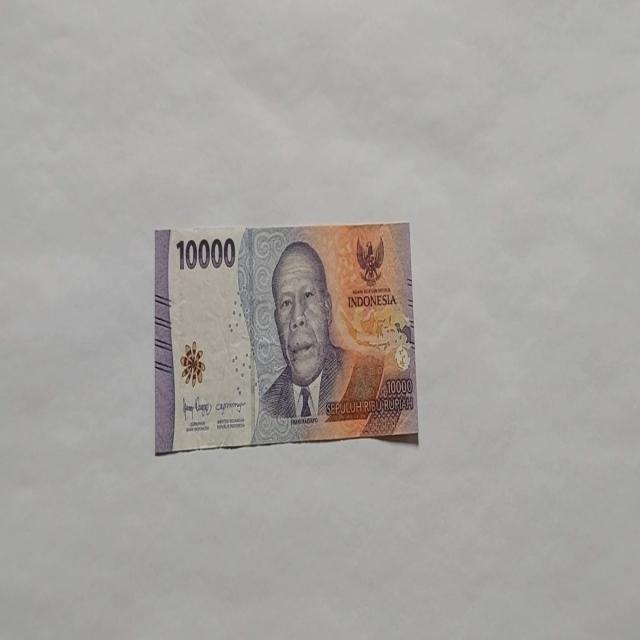sepuluh ribu rupiah: (153, 220, 419, 454), (248, 238, 386, 444)
